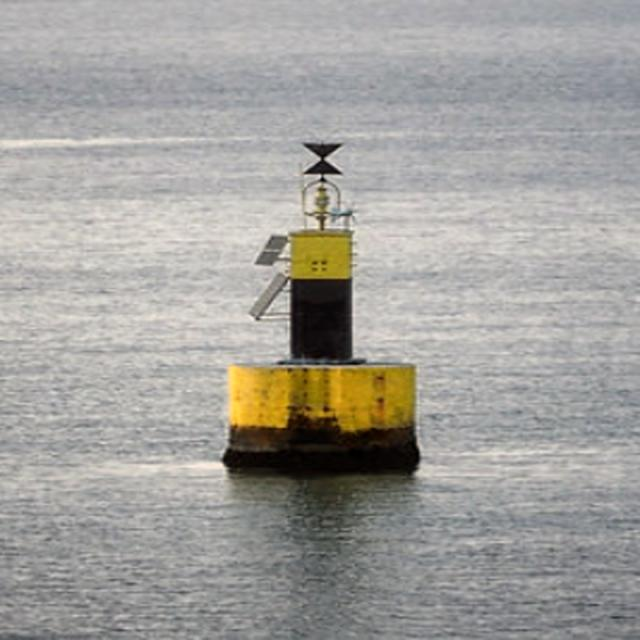buoy: (205, 130, 431, 472)
